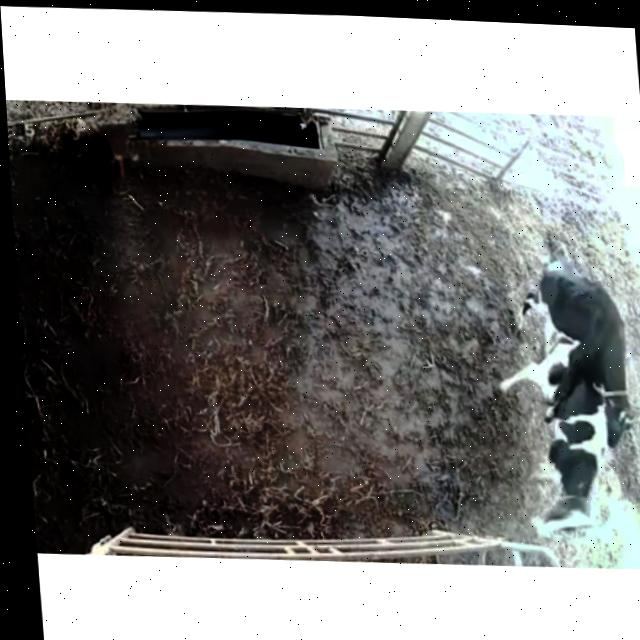ride: (504, 240, 640, 456)
